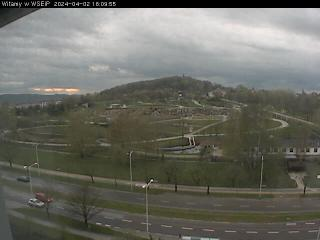car: (35, 193, 54, 205), (28, 196, 44, 208), (16, 174, 29, 183)
